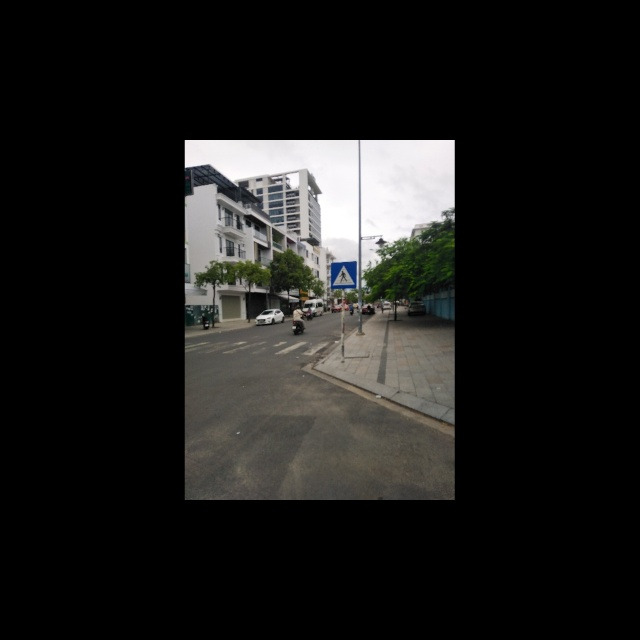Đường dành cho người đi bộ: (330, 260, 359, 288)
